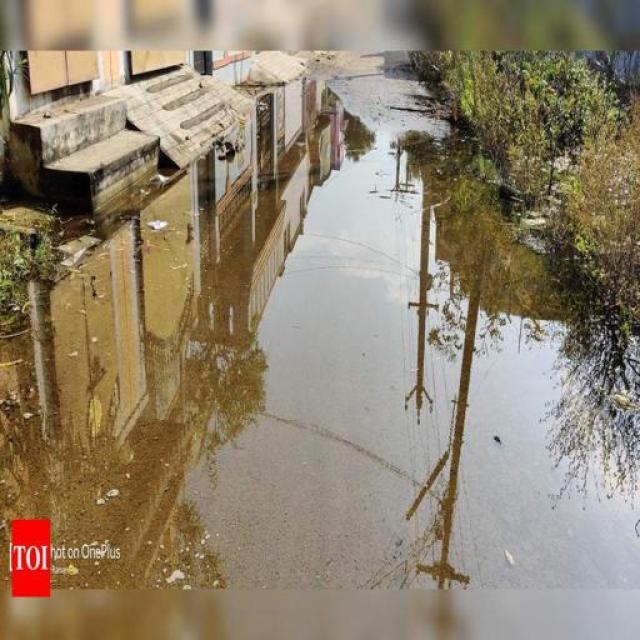puddle: (8, 339, 632, 544), (98, 228, 363, 597), (298, 142, 439, 582), (416, 209, 570, 600)
